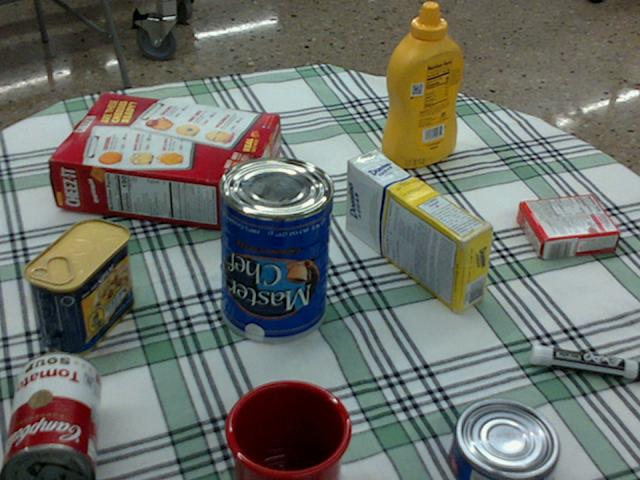cracker_box: (49, 94, 276, 229)
gelatin_box: (515, 194, 618, 259)
large_marker: (531, 344, 639, 379)
master_chef_can: (217, 156, 332, 342)
mug: (219, 380, 347, 479)
mustard_bottle: (380, 2, 462, 166)
potted_meat_can: (25, 218, 132, 355)
sugar_box: (344, 151, 492, 312)
tomato_soup_can: (0, 352, 100, 479)
tuna_fish_can: (448, 400, 559, 479)
